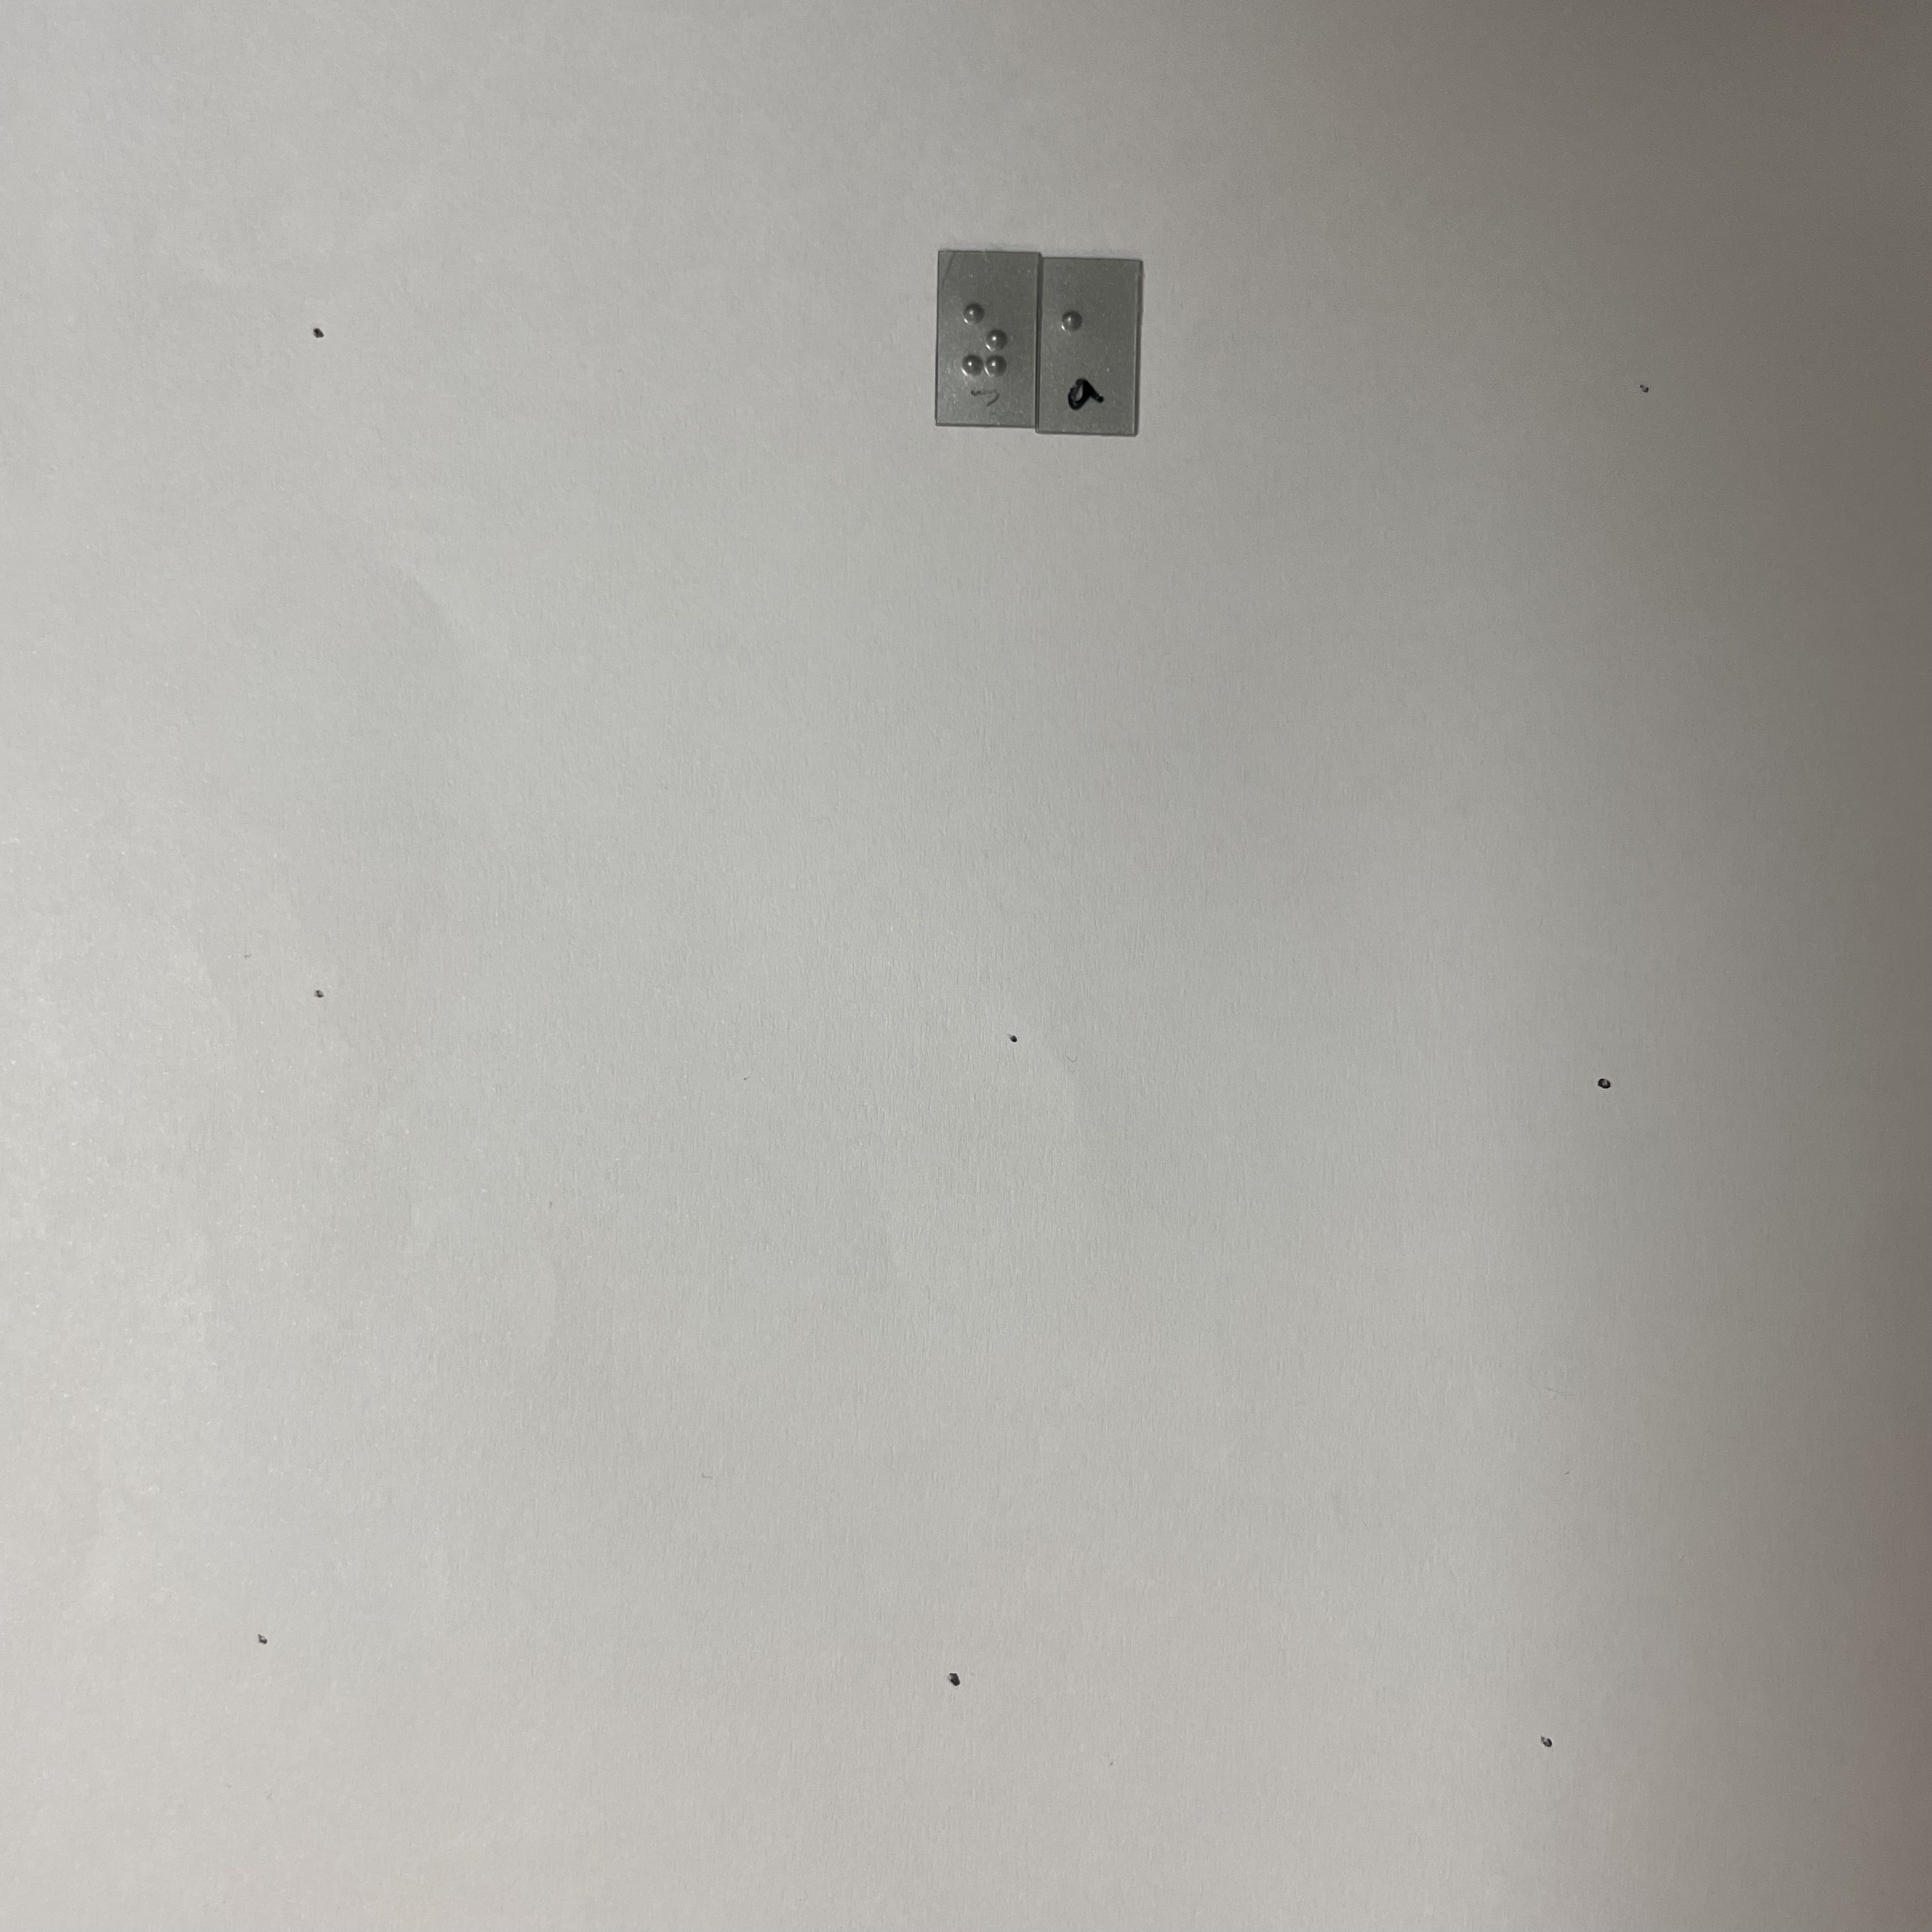a: (1048, 291, 1124, 391)
z: (951, 289, 1018, 391)
